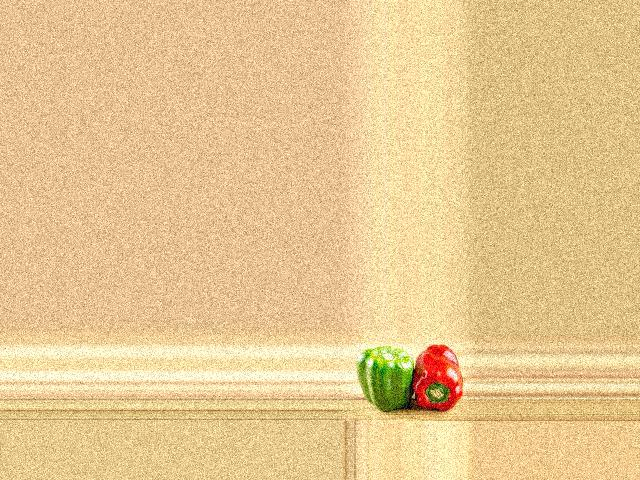bell_pepper: (410, 344, 464, 410)
